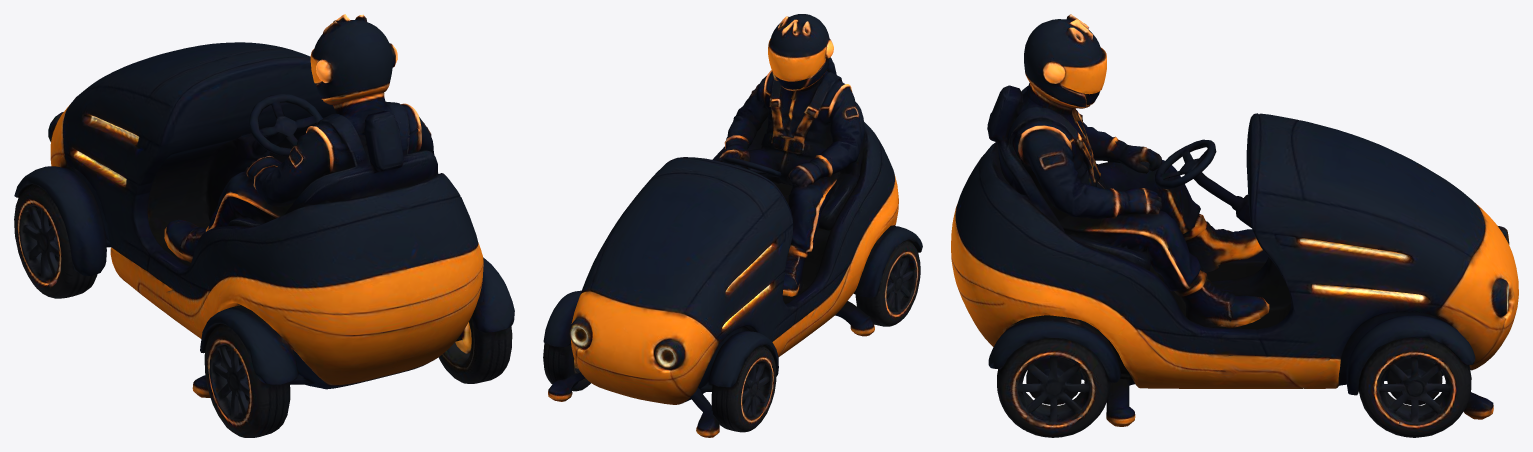
File: hybrid-dark.glb
3 renders of one model, left to right at view 1: azimuth 30°, elevation 25°; view 2: azimuth 150°, elevation 25°; view 3: azimuth 270°, elevation 25°, orthographic. The views are drawn at different scales.
Visible parts, largest first — view 1: chassis, wheel-rl, wheel-fl, wheel-rr; view 2: chassis, wheel-fl, wheel-rl, wheel-fr; view 3: chassis, wheel-rr, wheel-fr.
Boxes of the visible parts, x1,y1,x2,y2 form: chassis: [48, 14, 513, 397]; wheel-rl: [200, 285, 298, 437]; wheel-fl: [14, 166, 106, 298]; wheel-rr: [438, 257, 514, 383]; chassis: [548, 14, 898, 437]; wheel-fl: [702, 331, 778, 432]; wheel-rl: [849, 218, 922, 326]; wheel-fr: [543, 290, 590, 391]; chassis: [951, 14, 1518, 426]; wheel-rr: [991, 302, 1138, 437]; wheel-fr: [1346, 315, 1475, 437].
Bounding box in the file's own units: 2.25 × 3.17 × 4.5.
Materials: 1 (1 with a texture image).
